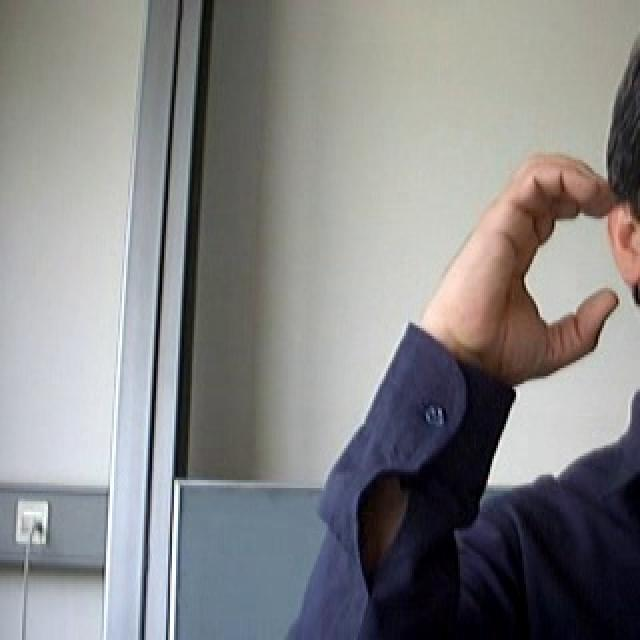C: (448, 139, 626, 384)
